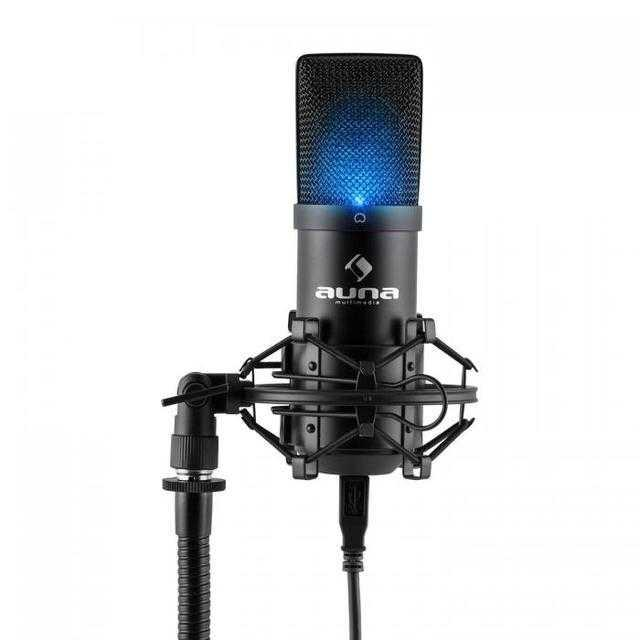microphone: (288, 58, 423, 470)
